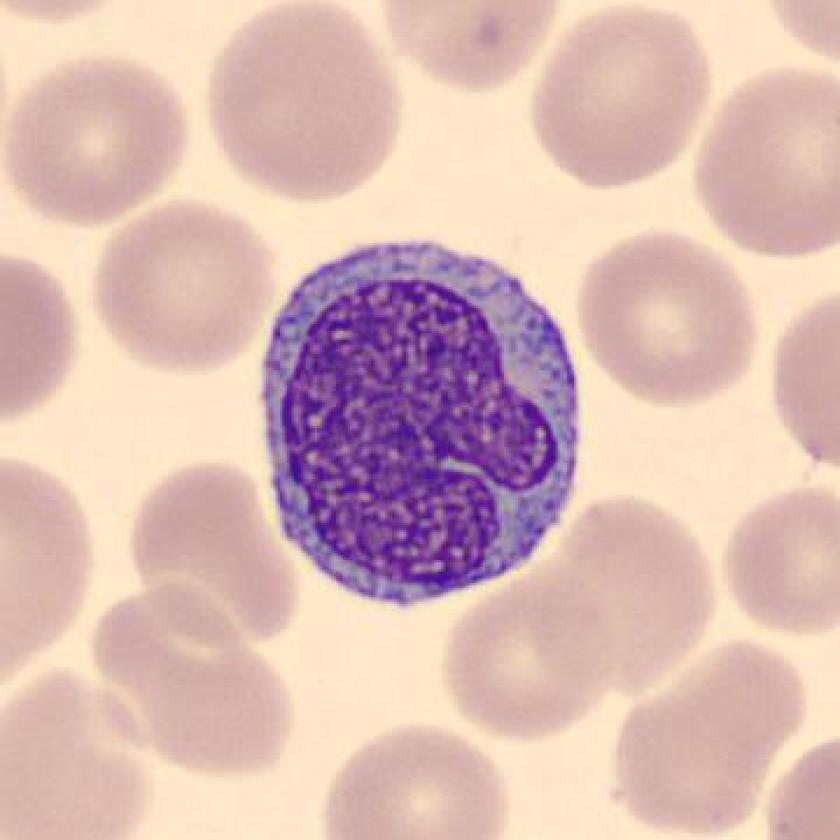monocyte: (248, 221, 603, 623)
